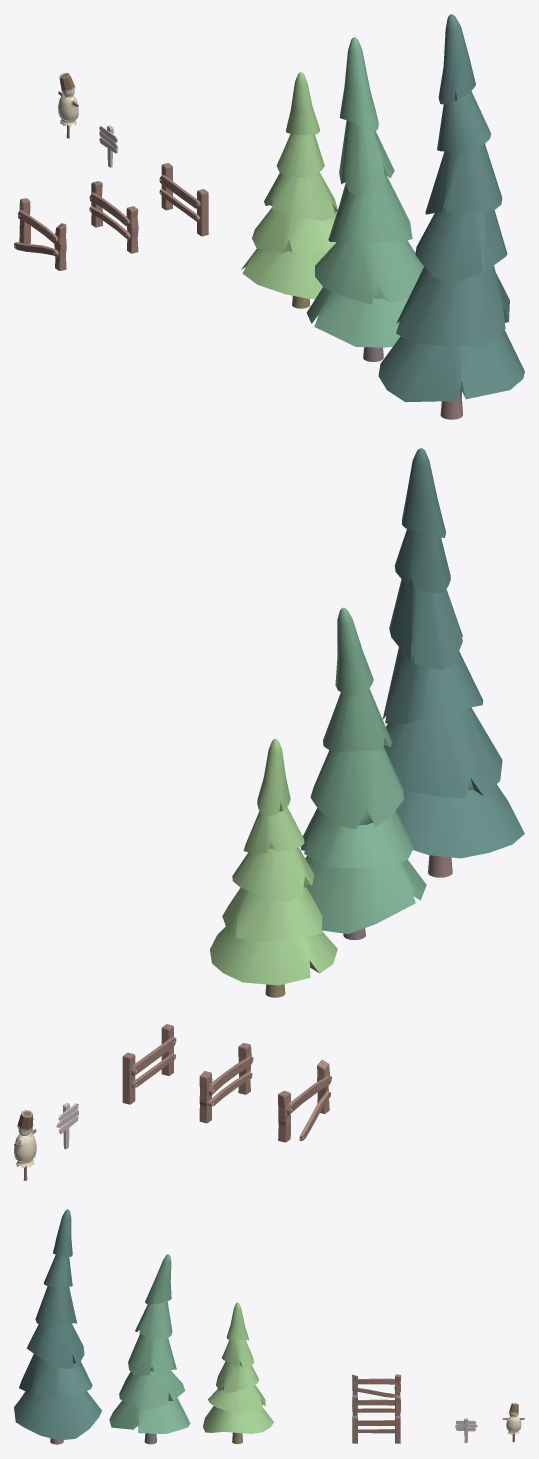
File: exterior-assets.fbx
The picture shows the model from 3 angles, top to bottom: view 1: azimuth 30°, elevation 25°; view 2: azimuth 150°, elevation 25°; view 3: azimuth 270°, elevation 25°; orthographic projection. The views are drawn at different scales.
Visible parts, largest first — view 1: PineTree03, PineTree02, PineTree01, Fence3, Fence1, Fence2, training-dummy, Signpost; view 2: PineTree03, PineTree02, PineTree01, Fence1, Fence2, Fence3; view 3: PineTree03, PineTree02, PineTree01, Fence1, Fence3, Fence2, training-dummy, Signpost.
Boxes of the visible parts, x1,y1,x2,y2 form: PineTree03: (378, 14, 524, 419); PineTree02: (306, 37, 423, 361); PineTree01: (241, 72, 337, 308); Fence3: (14, 198, 66, 270); Fence1: (159, 163, 208, 236); Fence2: (89, 181, 138, 253); training-dummy: (58, 88, 78, 138); Signpost: (99, 125, 118, 167); PineTree03: (382, 448, 524, 877); PineTree02: (301, 607, 426, 939); PineTree01: (210, 738, 337, 997); Fence1: (122, 1024, 176, 1104); Fence2: (199, 1043, 253, 1123); Fence3: (278, 1059, 331, 1142); PineTree03: (14, 1209, 101, 1444); PineTree02: (109, 1254, 190, 1444); PineTree01: (203, 1302, 273, 1444); Fence1: (352, 1416, 400, 1443); Fence3: (352, 1374, 401, 1397); Fence2: (352, 1395, 400, 1415); training-dummy: (502, 1412, 524, 1442); Signpost: (455, 1418, 477, 1442).
Size of the model in its own units: 1860 by 3192 by 6274.
